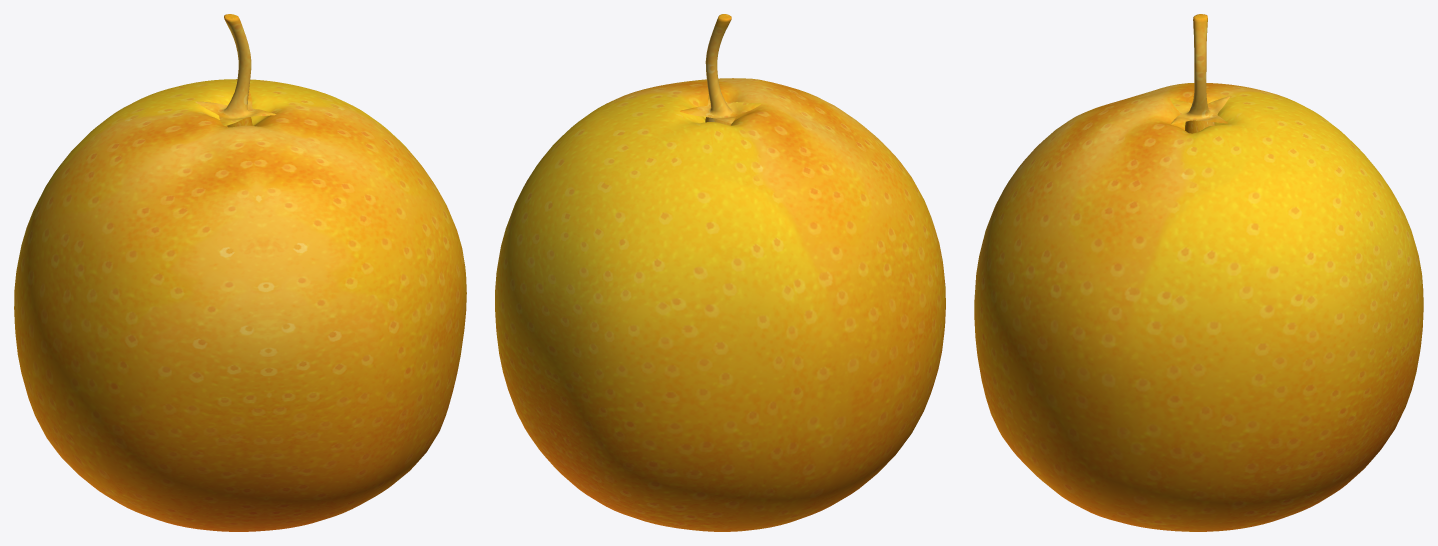
The model's file is chengzi.fbx.
3 views of the same model, side by side, from view 1: azimuth 30°, elevation 25°; view 2: azimuth 150°, elevation 25°; view 3: azimuth 270°, elevation 25° (orthographic).
Visible parts, largest first — view 1: chengzi; view 2: chengzi; view 3: chengzi.
Boxes of the visible parts, <box> form: chengzi: <box>14,14,466,531</box>; chengzi: <box>495,14,945,531</box>; chengzi: <box>974,14,1423,531</box>.
Size of the model in its own units: 14.1 by 16.94 by 14.3.
